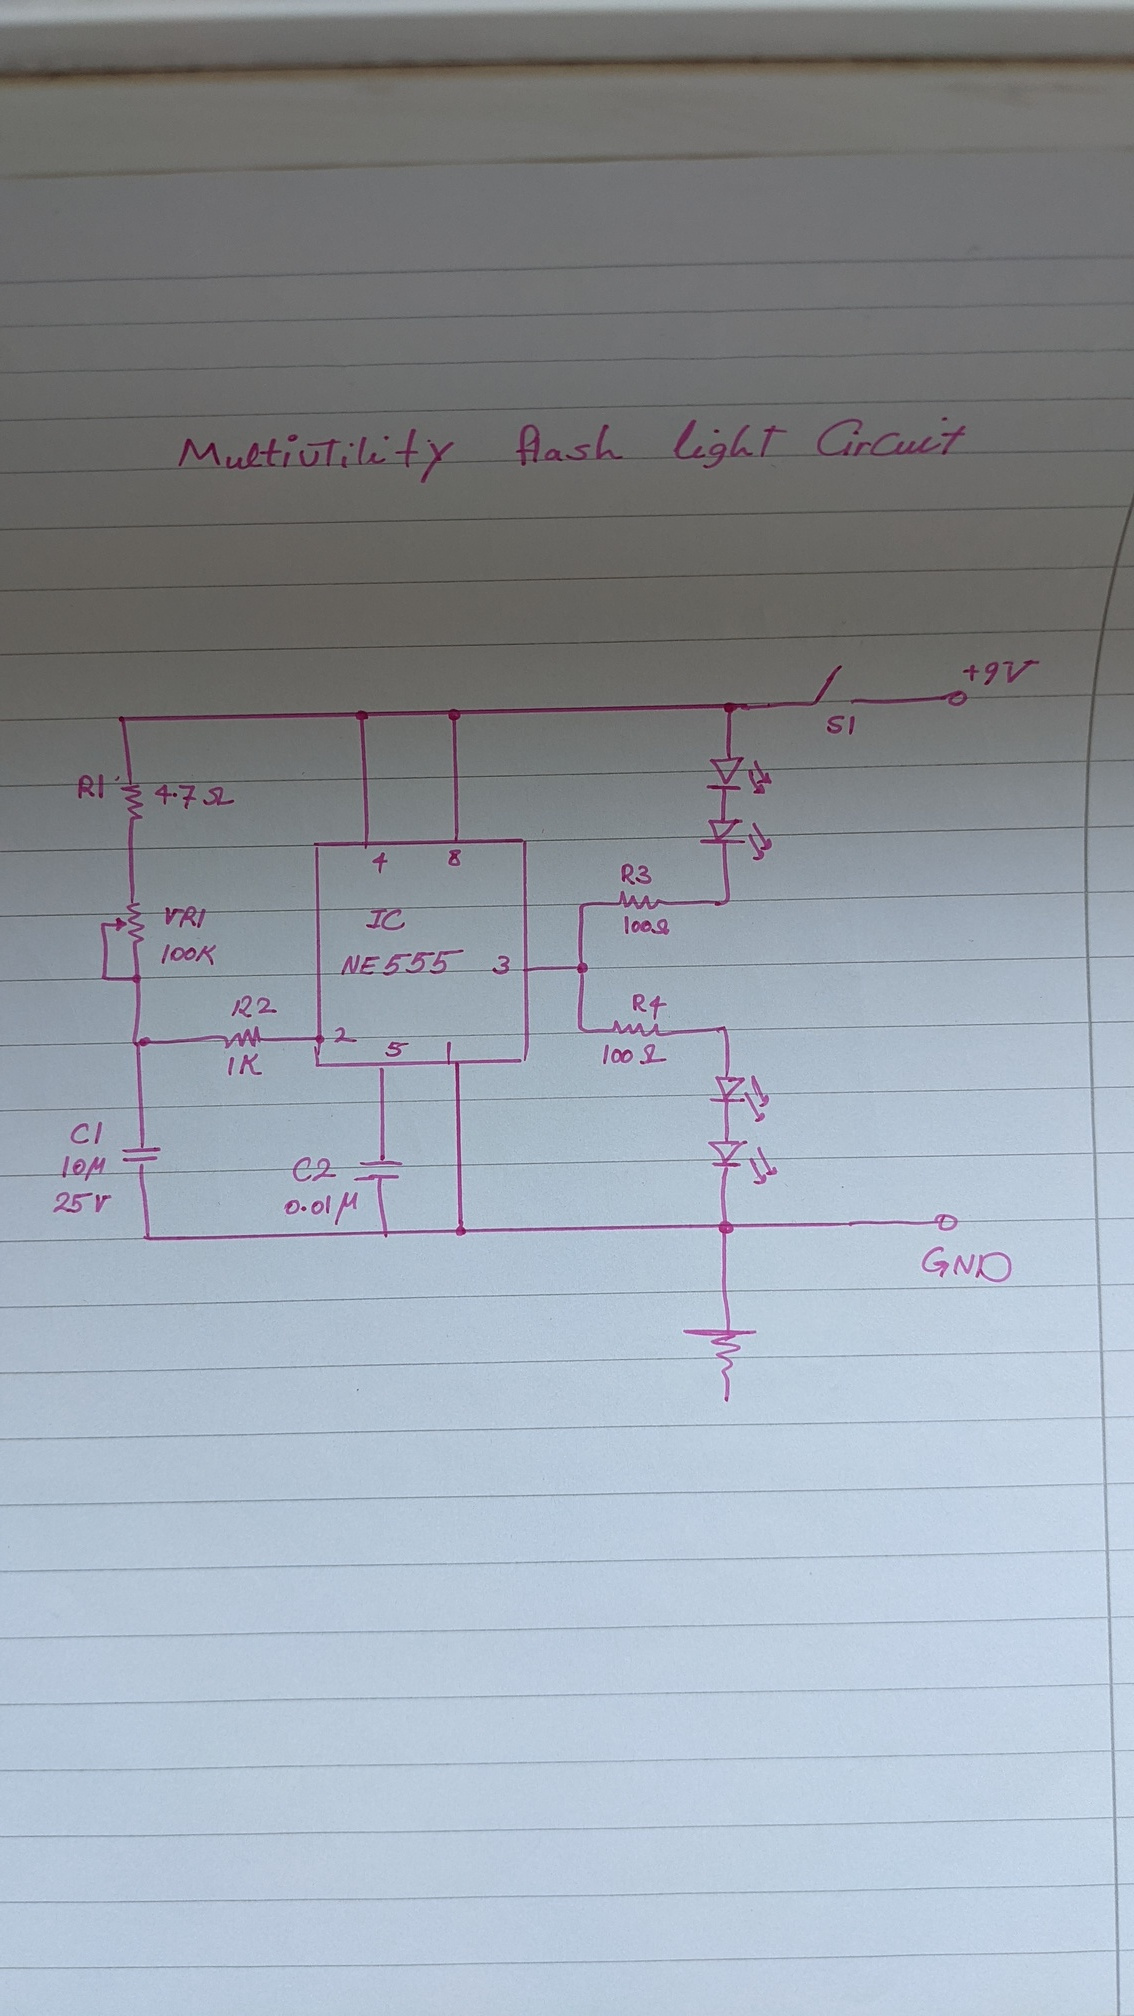capacitor.unpolarized: (352, 1156, 406, 1184), (118, 1140, 163, 1169)
diode.light_emitting: (706, 1138, 780, 1187), (708, 1072, 773, 1124), (698, 818, 774, 863), (703, 755, 774, 798)
gnd: (680, 1325, 762, 1405)
integrated_cricuit.ne555: (312, 836, 532, 1069)
junction: (721, 698, 741, 717), (717, 1218, 737, 1236), (130, 1036, 152, 1051), (444, 706, 462, 724), (451, 1221, 468, 1239), (575, 960, 593, 976), (353, 708, 371, 723), (115, 712, 132, 726), (379, 1225, 393, 1241), (575, 899, 590, 912), (719, 894, 734, 908), (719, 1022, 732, 1036), (573, 1023, 588, 1036), (130, 972, 144, 984), (141, 1231, 152, 1243), (100, 973, 111, 984), (97, 919, 108, 930)
resistor: (217, 1023, 266, 1052), (606, 1018, 667, 1038), (616, 889, 667, 912), (119, 781, 145, 822)
resistor.adjustable: (111, 897, 147, 948)
switch: (811, 662, 857, 709)
terminal: (932, 1212, 960, 1232), (944, 688, 968, 708)
text: (172, 413, 969, 487), (919, 1243, 1014, 1284), (341, 948, 467, 978), (282, 1189, 361, 1227), (961, 656, 1041, 687), (152, 784, 237, 811), (51, 1189, 114, 1217), (601, 1043, 669, 1068), (158, 942, 220, 968), (289, 1153, 338, 1185), (230, 993, 280, 1020), (60, 1153, 107, 1182), (622, 912, 672, 939), (161, 904, 209, 930), (227, 1050, 264, 1079), (364, 907, 407, 932), (631, 991, 667, 1020), (68, 1119, 104, 1146), (76, 773, 107, 802), (619, 863, 654, 888), (824, 713, 857, 737), (384, 1038, 411, 1059), (331, 1025, 359, 1045), (490, 953, 512, 978), (371, 850, 389, 875), (446, 847, 462, 868), (444, 1038, 453, 1068)
